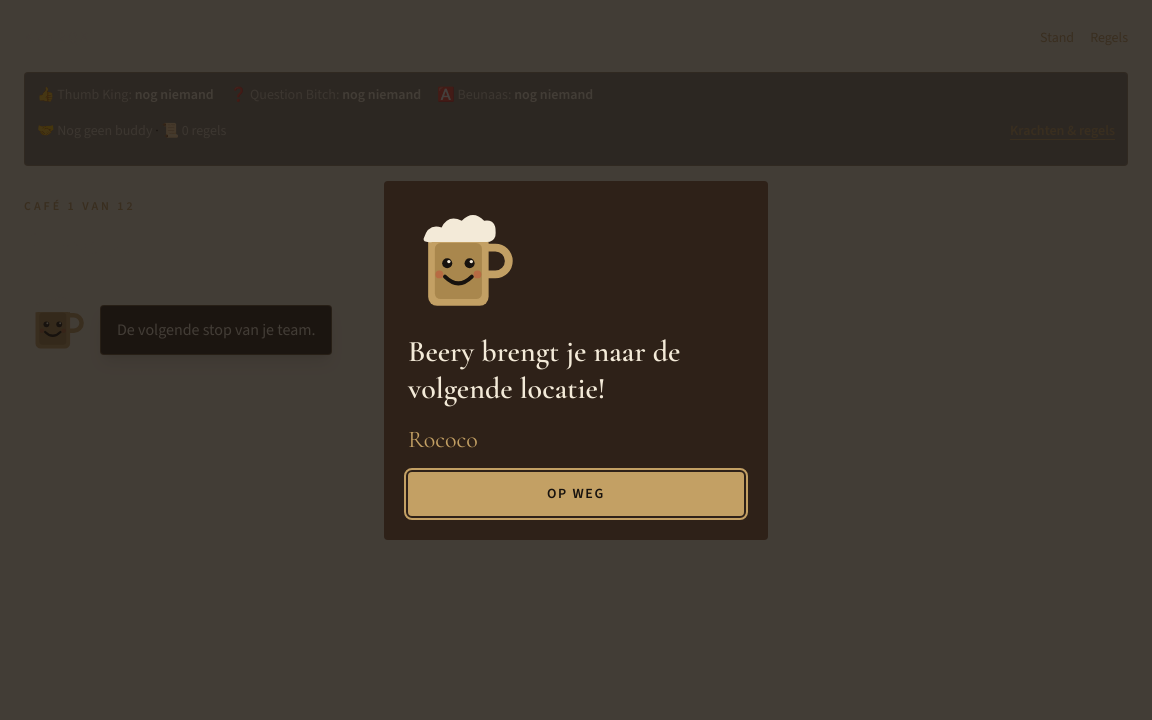
Test: Hidden Pubs in nl › navigation to the first café: fully in the language
Click the button "Op weg" at (576, 494), box [408,472,744,516]
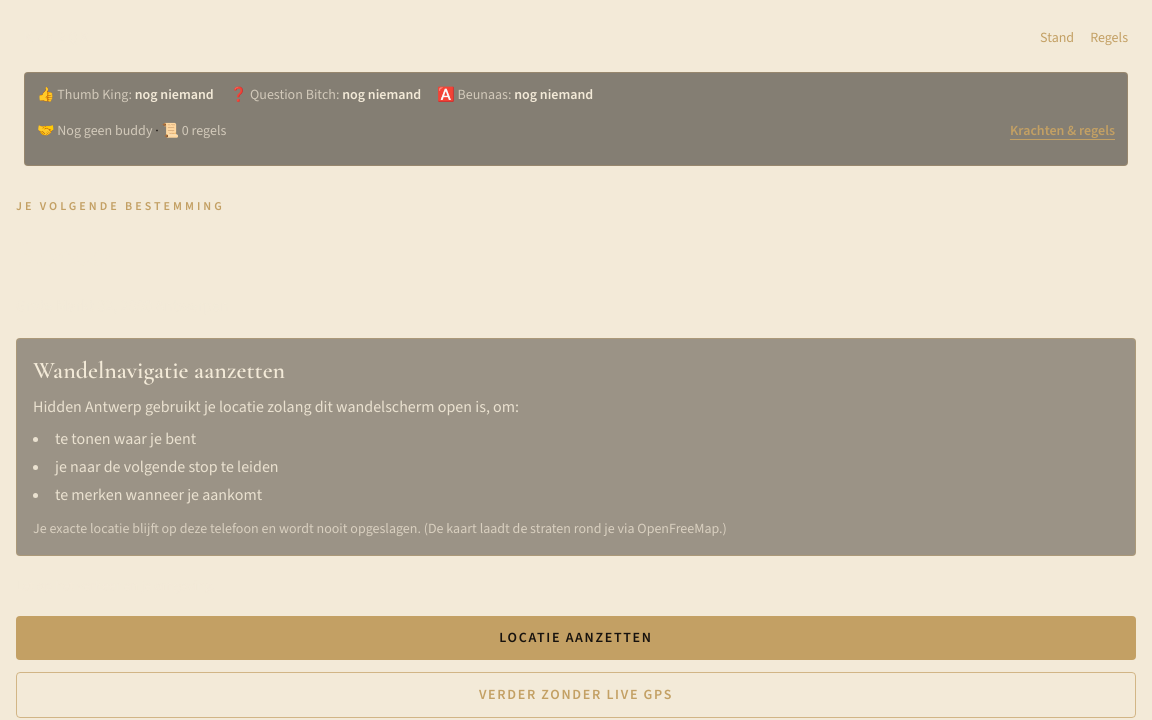
Expected: the button "Verder zonder live gps" is shown, [16,672,1136,718]
